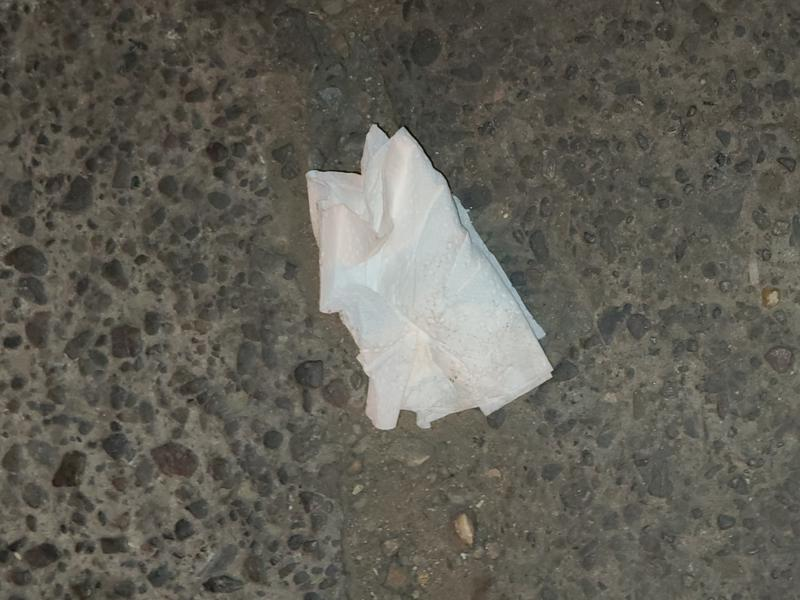papel: (305, 126, 555, 433)
